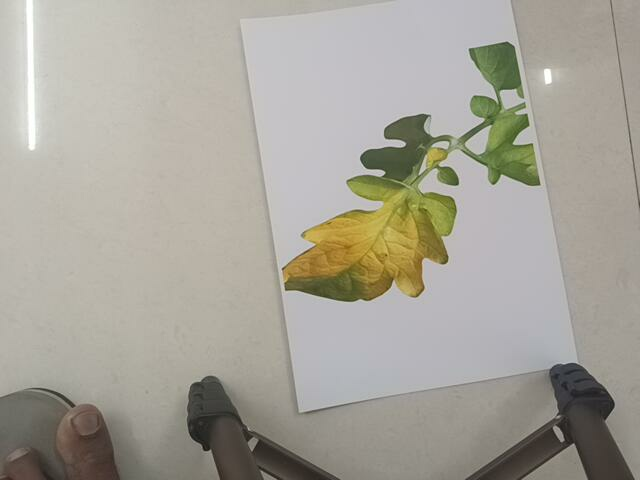Tomamto_Yellow_Disease: (288, 42, 530, 298)
